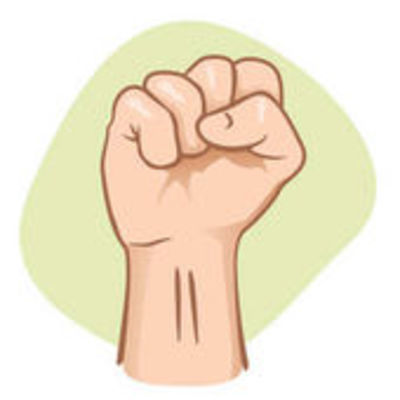closedhandfront: (97, 56, 305, 254)
